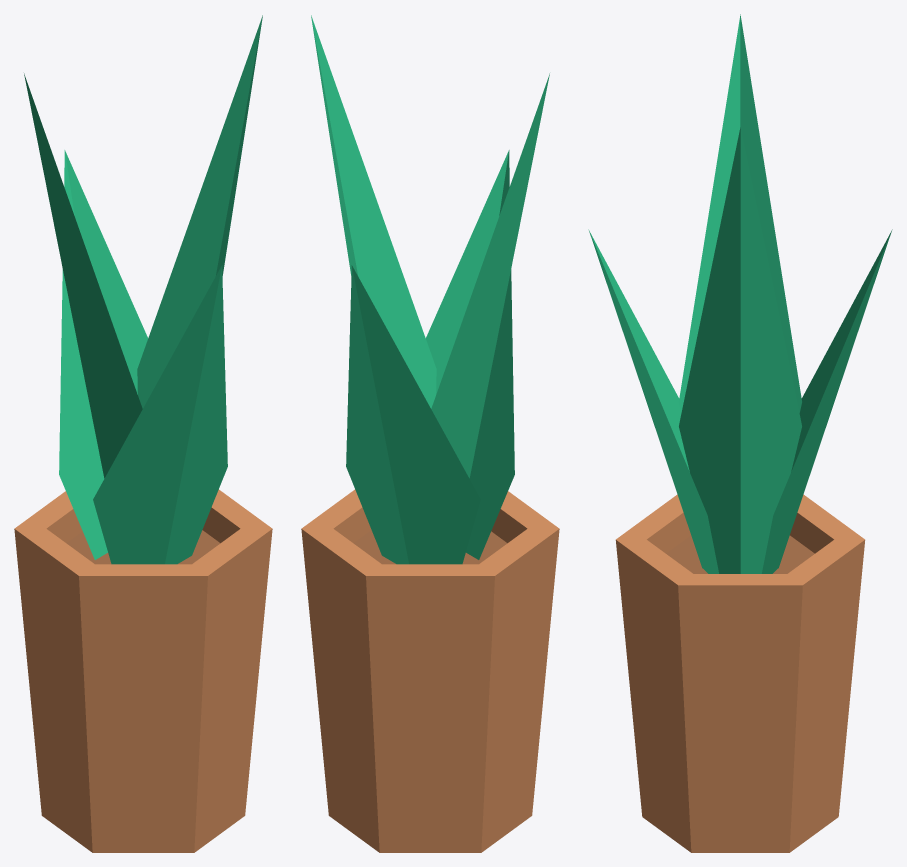
File: Potted Plant.glb
3 renders of one model, left to right at view 1: azimuth 30°, elevation 25°; view 2: azimuth 150°, elevation 25°; view 3: azimuth 270°, elevation 25°, orthographic. The views are drawn at different scales.
Visible parts, largest first — view 1: pottedPlant(Clone), plant; view 2: pottedPlant(Clone), plant; view 3: pottedPlant(Clone), plant.
Boxes of the visible parts, bbox=[...] form: pottedPlant(Clone): bbox=[14, 489, 272, 852]; plant: bbox=[24, 15, 262, 564]; pottedPlant(Clone): bbox=[301, 489, 559, 852]; plant: bbox=[311, 15, 549, 564]; pottedPlant(Clone): bbox=[615, 494, 865, 852]; plant: bbox=[588, 14, 892, 573].
Bounding box in the file's own units: 0.2121 × 0.654 × 0.2415.
